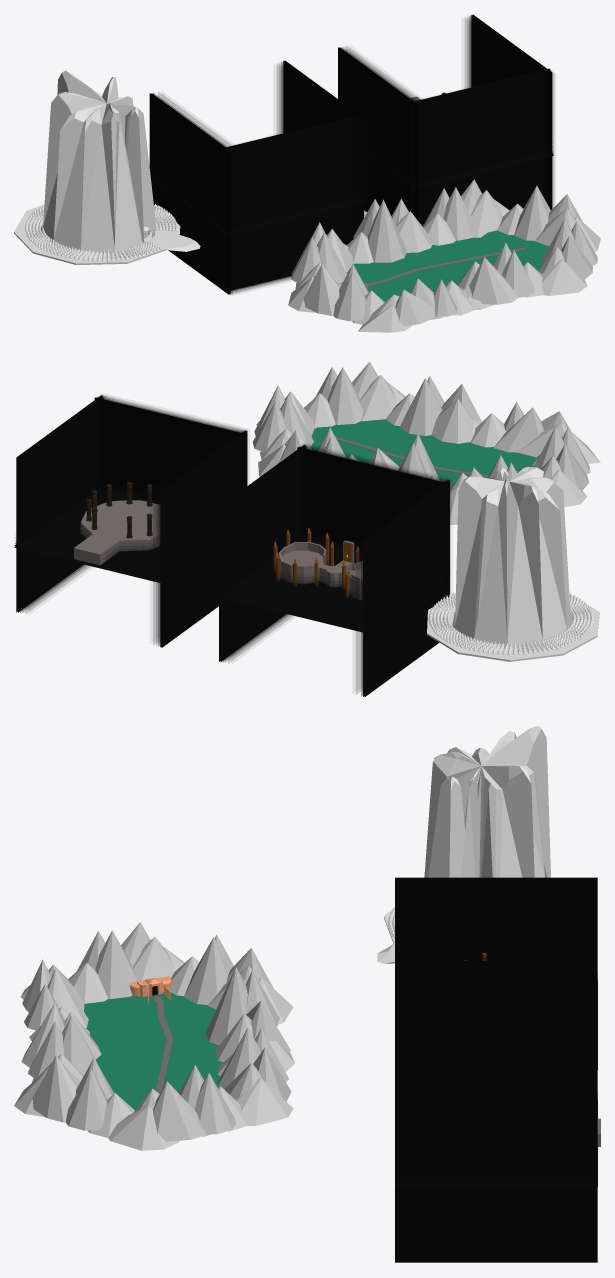
File: GEGE232.fbx
The picture shows the model from 3 angles, top to bottom: view 1: azimuth 30°, elevation 25°; view 2: azimuth 150°, elevation 25°; view 3: azimuth 270°, elevation 25°; orthographic projection. The views are drawn at different scales.
Visible parts, largest first — view 1: Cylinder, Plane.017, Plane.021, Cylinder.007, Cylinder.013, Plane.019, Plane.023, Plane.022, Plane.018, Circle, Circle.001, Cylinder.002 (+3 smaller); view 2: Cylinder, Plane.019, Plane.023, Cylinder.013, Plane.022, Plane.018, Plane.017, Plane.021, Cylinder.007, Plane.005, Plane.020, Circle (+6 smaller); view 3: Plane.022, Cylinder.013, Plane.019, Plane.023, Cylinder, Cylinder.007, Plane.018, Circle, Circle.001, Plane.020, Cube.009.
Part boxes in pixels (x1,y1,x2,y2): Cylinder: (14, 71, 200, 264); Plane.017: (224, 114, 365, 294); Plane.021: (412, 68, 553, 226); Cylinder.007: (288, 199, 494, 332); Cylinder.013: (422, 179, 600, 304); Plane.019: (149, 92, 236, 294); Plane.023: (338, 46, 424, 223); Plane.022: (465, 14, 552, 210); Plane.018: (277, 60, 363, 226); Circle: (347, 230, 544, 301); Circle.001: (341, 238, 549, 296); Cylinder.002: (25, 204, 178, 261); Cylinder: (427, 466, 599, 661); Plane.019: (356, 479, 449, 696); Plane.023: (153, 429, 247, 647); Cylinder.013: (253, 361, 481, 476); Plane.022: (16, 395, 109, 613); Plane.018: (219, 444, 312, 663); Plane.017: (297, 444, 450, 599); Plane.021: (94, 395, 247, 502); Cylinder.007: (369, 402, 600, 524); Plane.005: (217, 531, 449, 632); Plane.020: (14, 481, 218, 583); Circle: (311, 419, 536, 488); Plane.022: (395, 1074, 597, 1262); Cylinder.013: (14, 1002, 294, 1150); Plane.019: (395, 877, 597, 960); Plane.023: (395, 995, 597, 1077); Cylinder: (377, 726, 550, 963); Cylinder.007: (20, 922, 293, 1062); Plane.018: (395, 957, 597, 994); Circle: (84, 999, 222, 1105); Circle.001: (111, 992, 187, 1110); Plane.020: (395, 1097, 597, 1187); Cube.009: (153, 995, 172, 1093).
Size of the model in its own units: 980 by 794 by 401.
